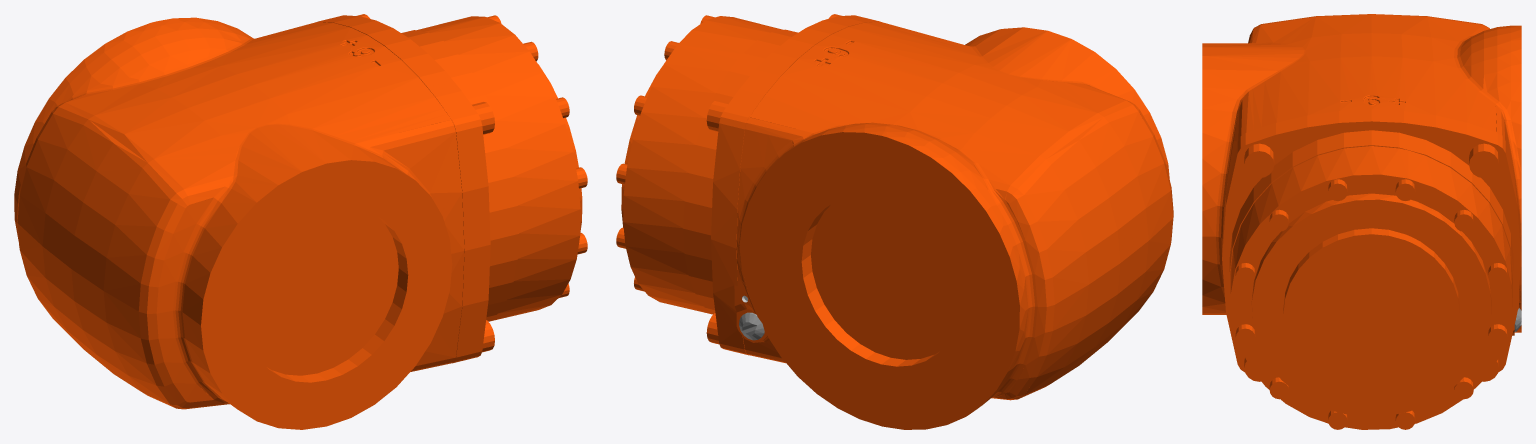
3 renders of one model, left to right at view 1: azimuth 30°, elevation 25°; view 2: azimuth 150°, elevation 25°; view 3: azimuth 270°, elevation 25°, orthographic. The views are drawn at different scales.
Parts seen in each view (by area): view 1: link_5; view 2: link_5; view 3: link_5.
Boxes of the visible parts, x1,y1,x2,y2 form: link_5: (14, 14, 587, 429); link_5: (616, 14, 1173, 429); link_5: (1202, 14, 1521, 429).
Size of the model in its own units: 0.141 by 0.0905 by 0.0871.
